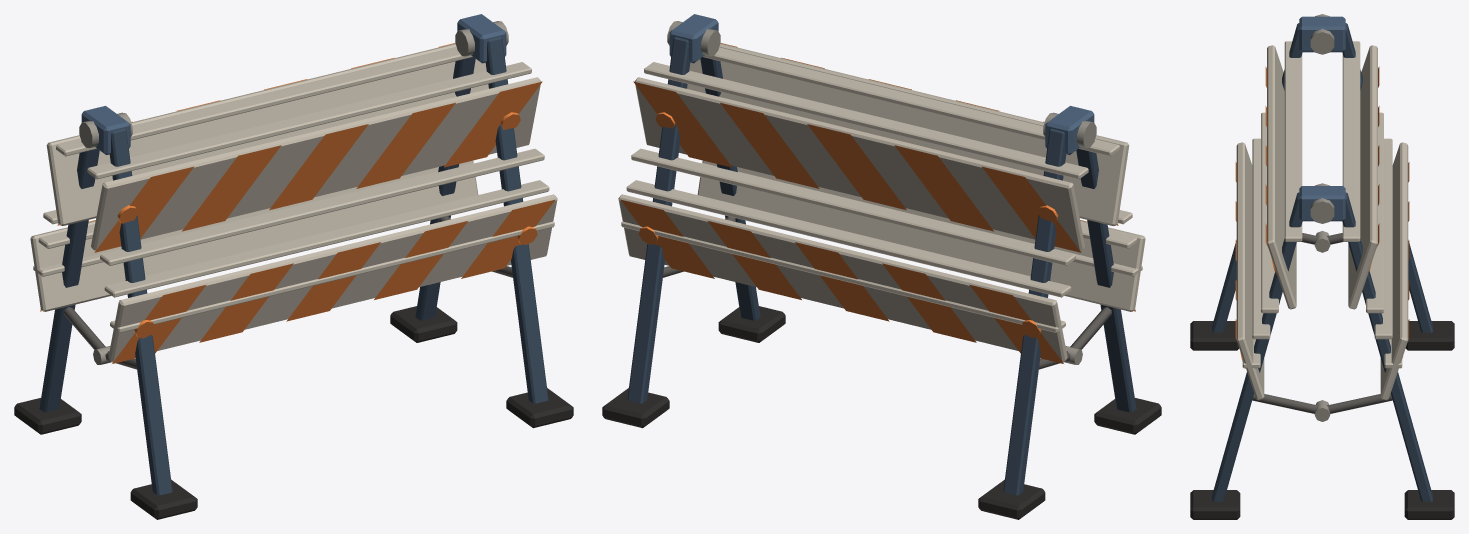
The model's file is roadblock.glb.
3 views of the same model, side by side, from view 1: azimuth 30°, elevation 25°; view 2: azimuth 150°, elevation 25°; view 3: azimuth 270°, elevation 25° (orthographic). The views are drawn at different scales.
Parts seen in each view (by area): view 1: roadblock.native.L0.roadblock.boards.0, roadblock.native.L0.roadblock.boards.edge-channels.3, roadblock.native.L0.roadblock.frame.trestle--0.56.1, roadblock.native.L0.roadblock.frame.trestle-0.56.2; view 2: roadblock.native.L0.roadblock.boards.0, roadblock.native.L0.roadblock.boards.edge-channels.3, roadblock.native.L0.roadblock.frame.trestle--0.56.1, roadblock.native.L0.roadblock.frame.trestle-0.56.2; view 3: roadblock.native.L0.roadblock.boards.0, roadblock.native.L0.roadblock.boards.edge-channels.3, roadblock.native.L0.roadblock.frame.trestle-0.56.2, roadblock.native.L0.roadblock.frame.trestle--0.56.1.
Boxes of the visible parts, x1=… form: roadblock.native.L0.roadblock.boards.0: x1=30, y1=43, x2=557, y2=363; roadblock.native.L0.roadblock.boards.edge-channels.3: x1=33, y1=47, x2=554, y2=332; roadblock.native.L0.roadblock.frame.trestle--0.56.1: x1=14, y1=105, x2=197, y2=519; roadblock.native.L0.roadblock.frame.trestle-0.56.2: x1=390, y1=14, x2=573, y2=428; roadblock.native.L0.roadblock.boards.0: x1=618, y1=43, x2=1145, y2=363; roadblock.native.L0.roadblock.boards.edge-channels.3: x1=621, y1=47, x2=1142, y2=332; roadblock.native.L0.roadblock.frame.trestle--0.56.1: x1=978, y1=105, x2=1161, y2=519; roadblock.native.L0.roadblock.frame.trestle-0.56.2: x1=602, y1=14, x2=785, y2=428; roadblock.native.L0.roadblock.boards.0: x1=1235, y1=45, x2=1409, y2=400; roadblock.native.L0.roadblock.boards.edge-channels.3: x1=1242, y1=41, x2=1402, y2=368; roadblock.native.L0.roadblock.frame.trestle-0.56.2: x1=1190, y1=183, x2=1454, y2=519; roadblock.native.L0.roadblock.frame.trestle--0.56.1: x1=1190, y1=14, x2=1454, y2=350.
Size of the model in its own units: 1.3 by 0.99 by 0.74.
